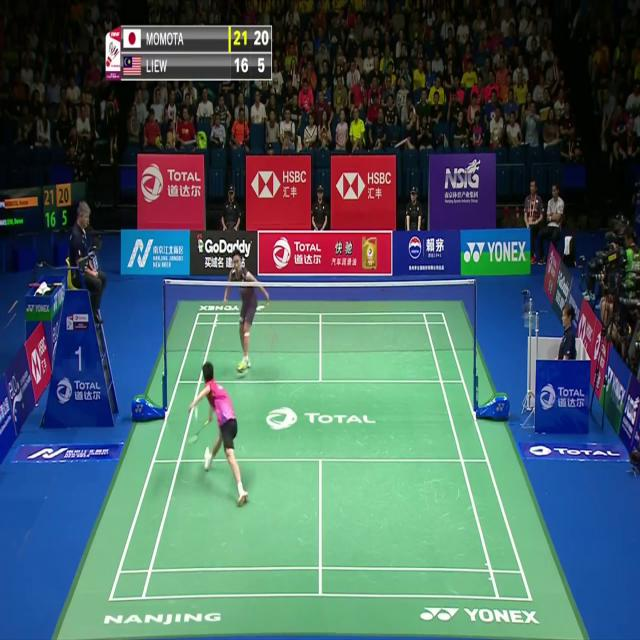Shuttlecock: (193, 405, 199, 416)
